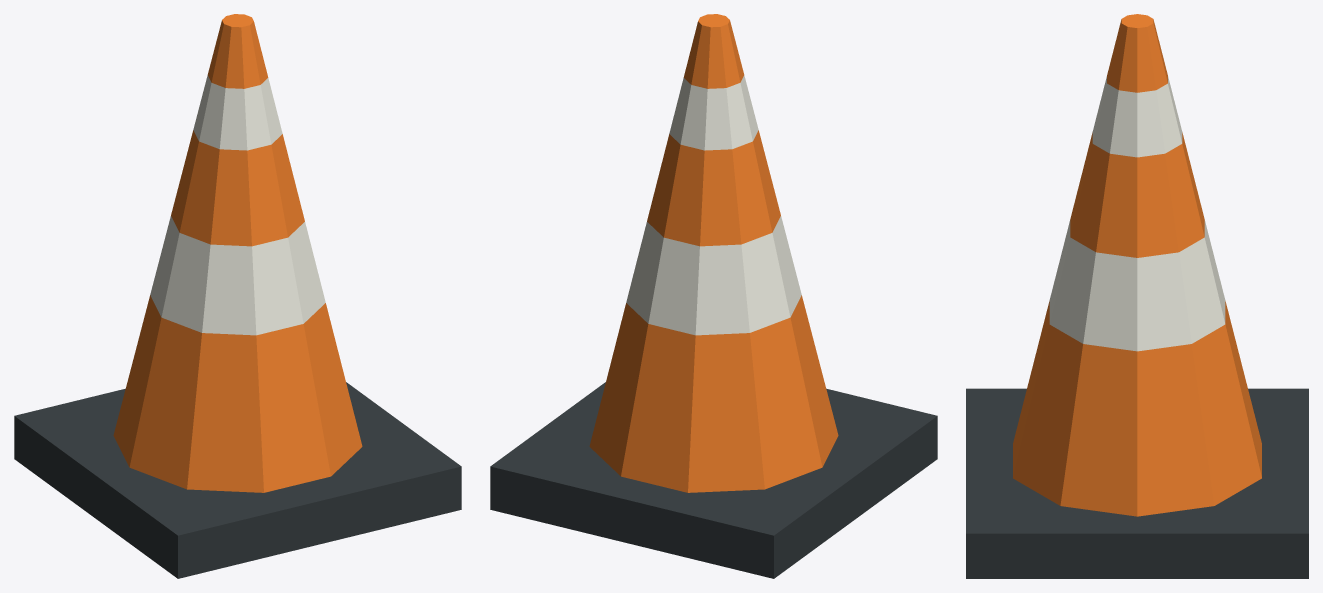
File: TR3_TrafficCone_Standard.glb
The picture shows the model from 3 angles, left to right: view 1: azimuth 30°, elevation 25°; view 2: azimuth 150°, elevation 25°; view 3: azimuth 270°, elevation 25°; orthographic projection. The views are drawn at different scales.
Parts seen in each view (by area): view 1: TR3_TrafficCone_Standard; view 2: TR3_TrafficCone_Standard; view 3: TR3_TrafficCone_Standard.
Boxes of the visible parts, bbox=[...] form: TR3_TrafficCone_Standard: bbox=[14, 14, 461, 578]; TR3_TrafficCone_Standard: bbox=[490, 14, 937, 578]; TR3_TrafficCone_Standard: bbox=[966, 14, 1308, 578].
Size of the model in its own units: 0.48 by 0.75 by 0.48.
